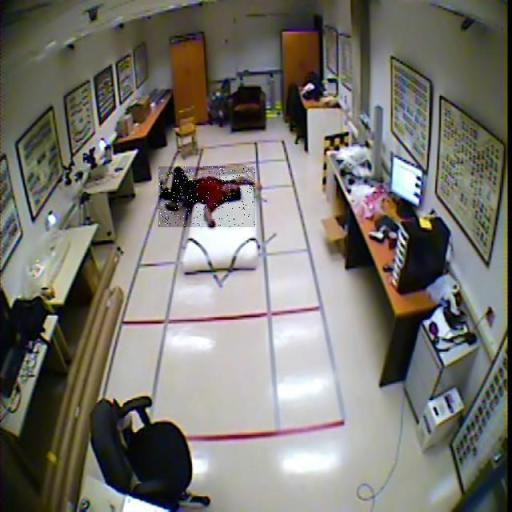Fall: (159, 167, 256, 228)
